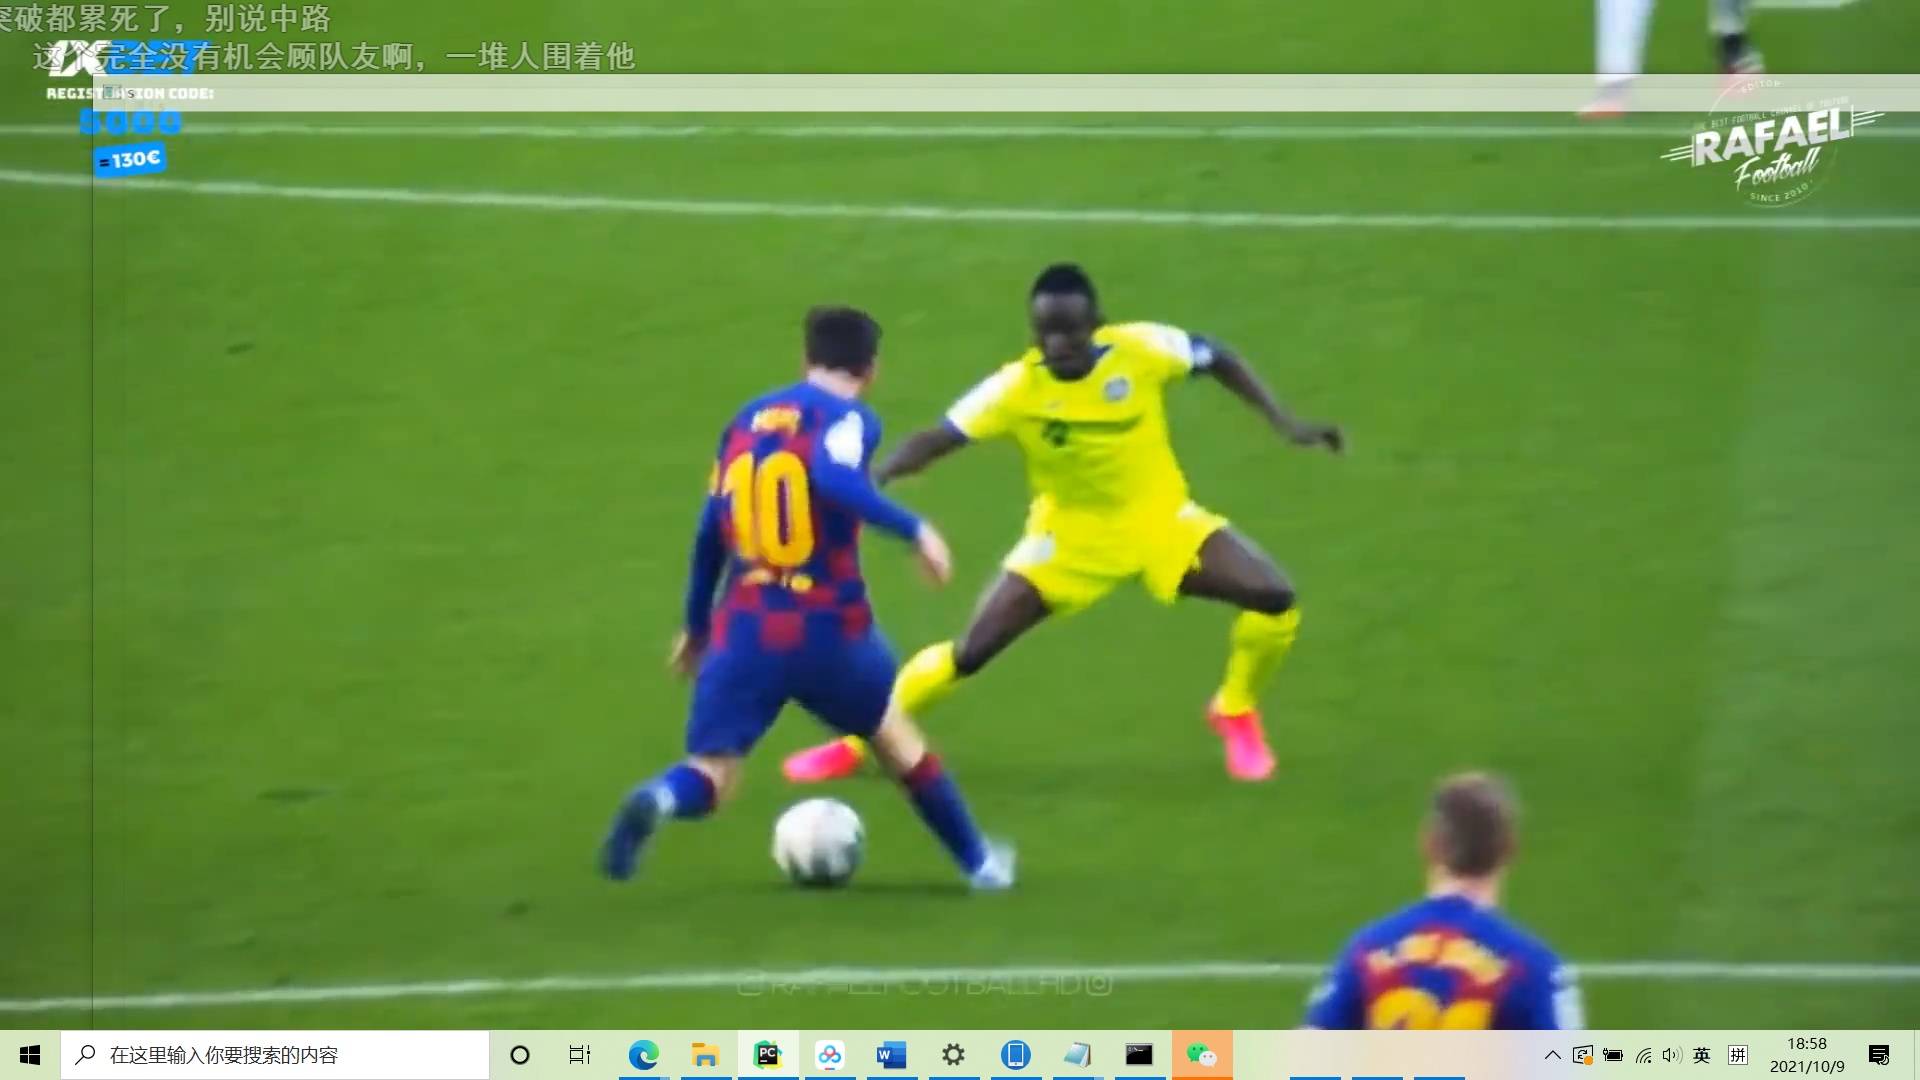ft: (769, 800, 877, 891)
